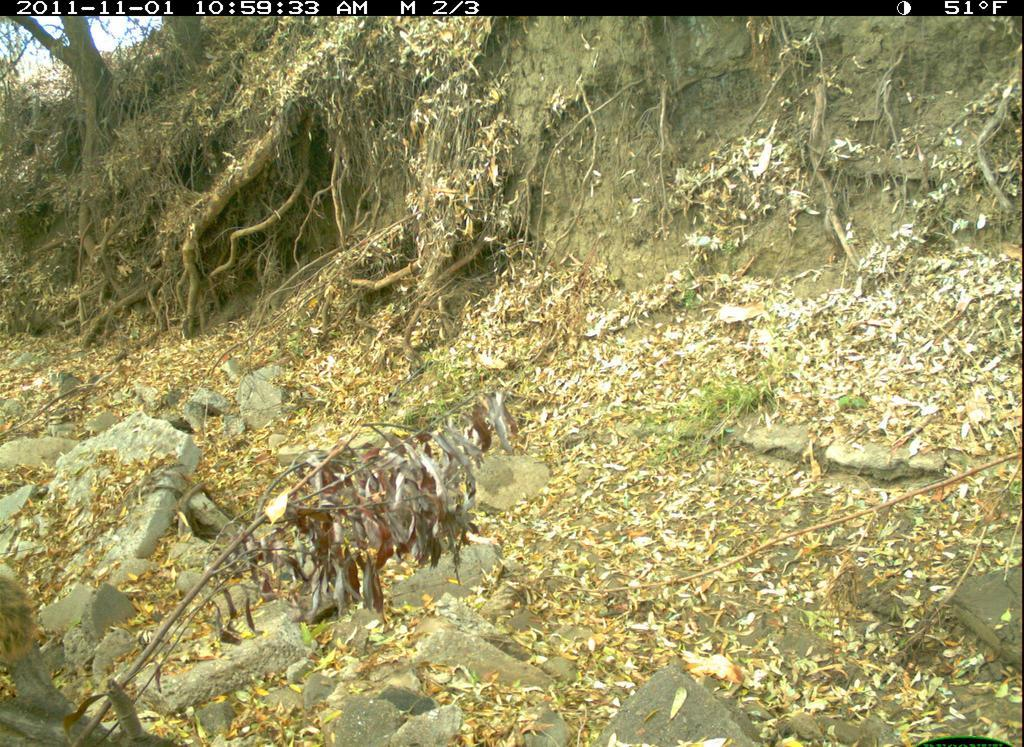squirrel: (1, 561, 61, 711)
